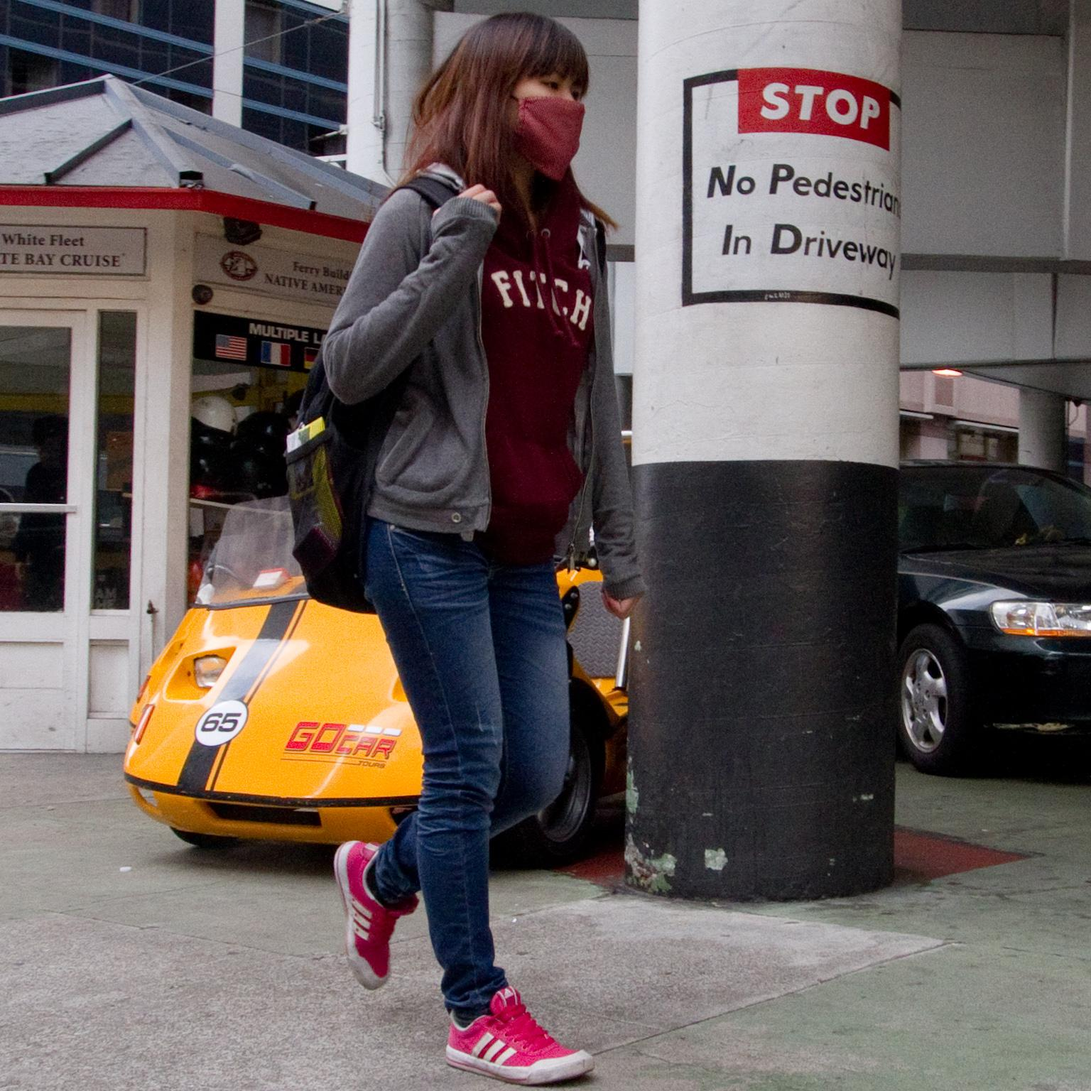OK: (489, 73, 590, 177)
